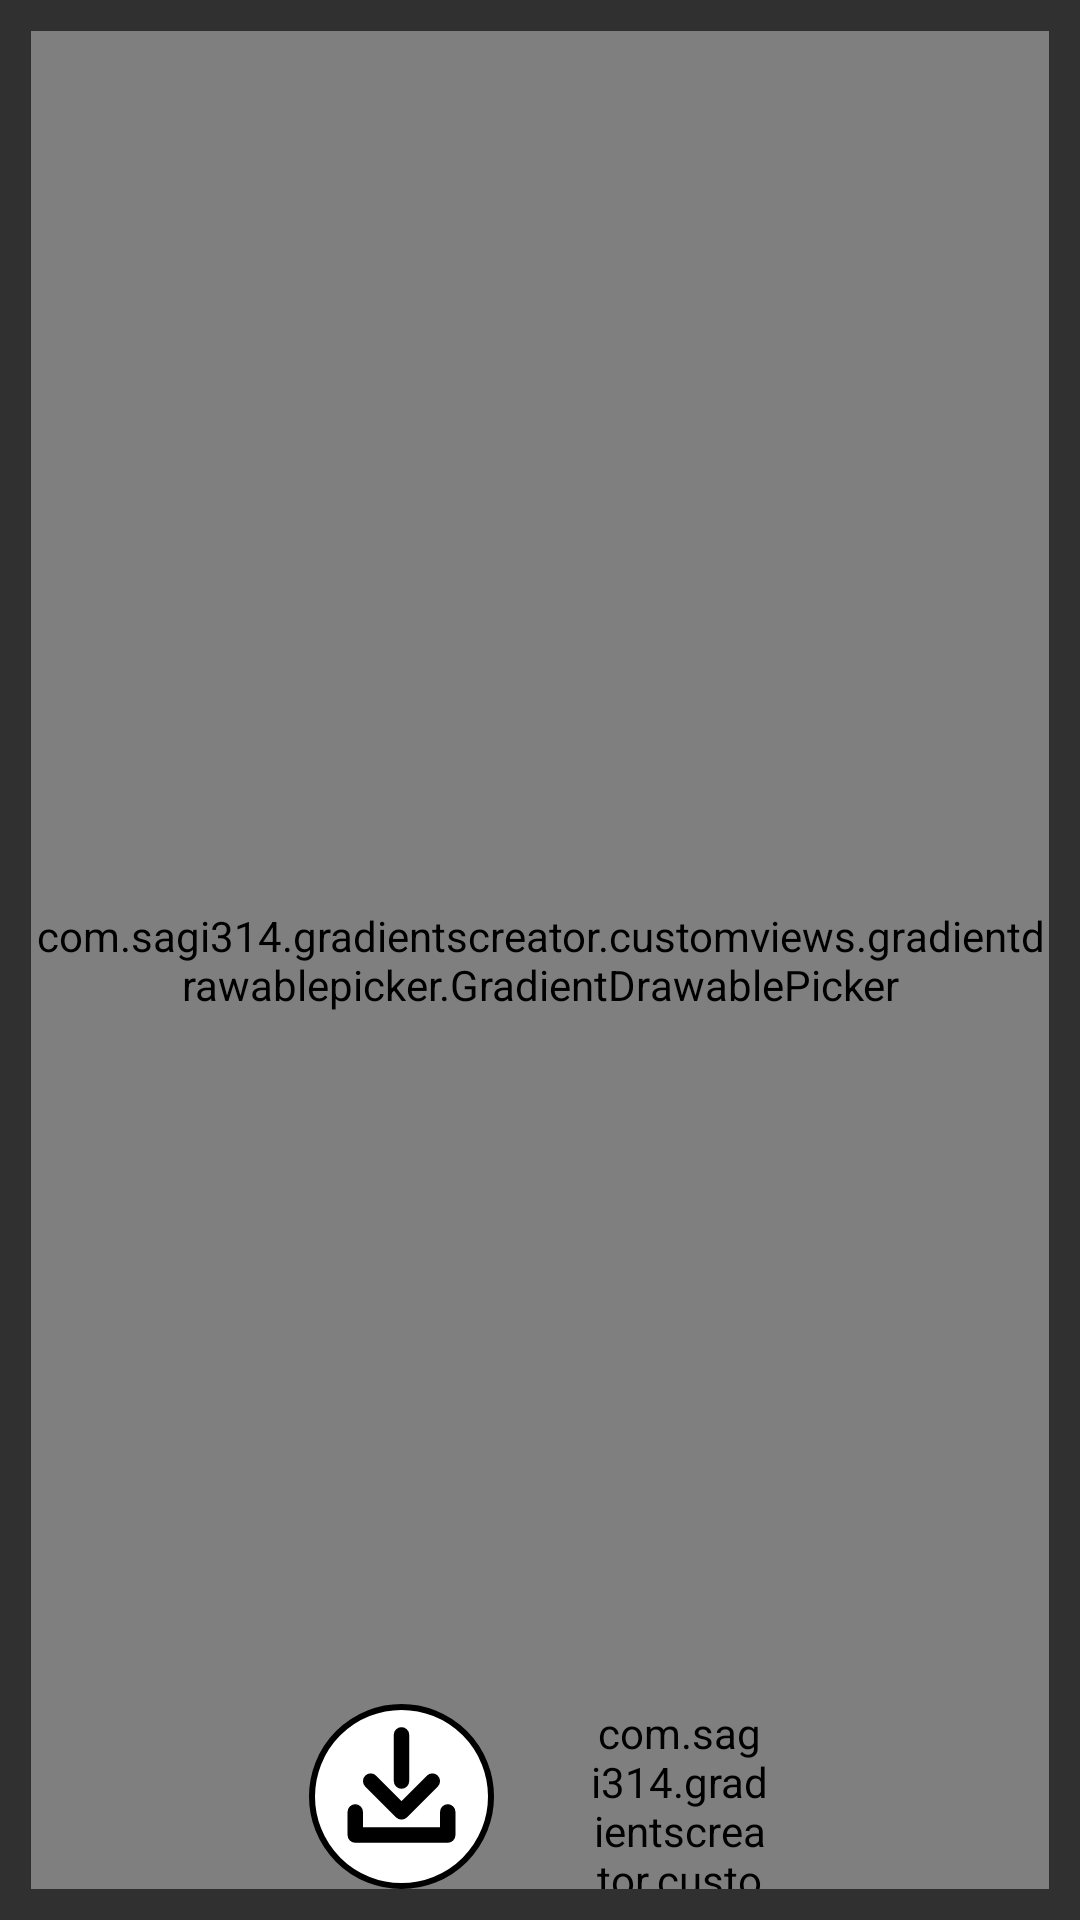

Where icons sit on this 1080w x 1920h app screen, as (x1, y1, x2, y2):
circle download: (309, 1704, 494, 1889)
